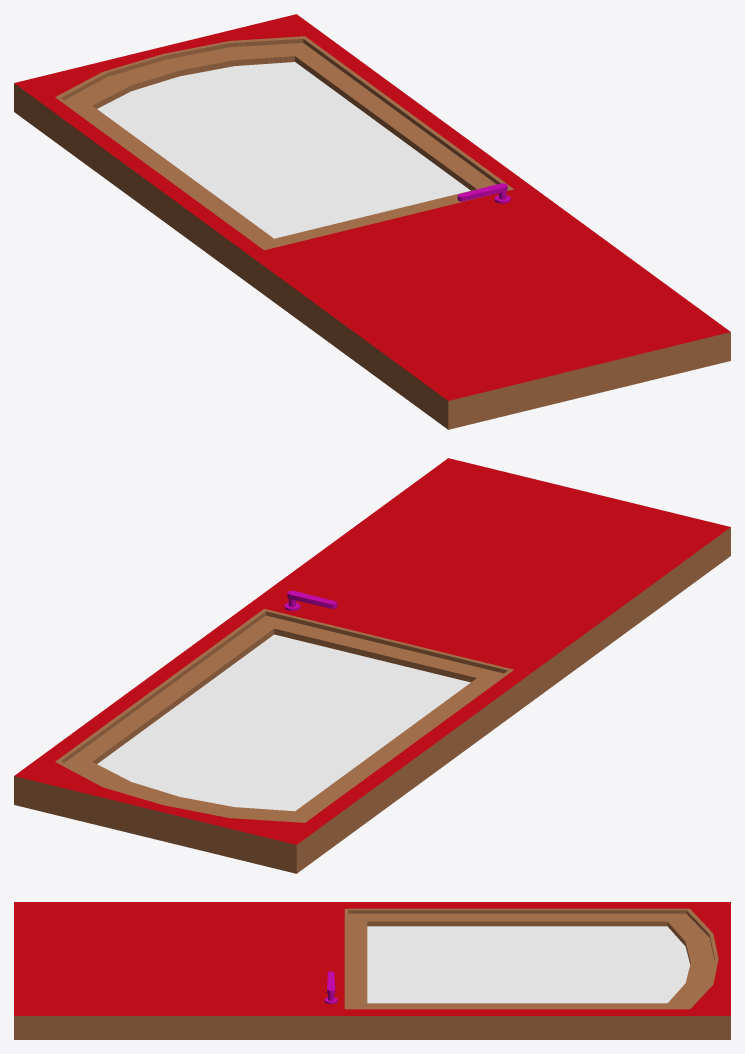
File: CableCar_01_Door.fbx
3 views of the same model, one above another, from view 1: azimuth 30°, elevation 25°; view 2: azimuth 150°, elevation 25°; view 3: azimuth 270°, elevation 25° (orthographic). The views are drawn at different scales.
Parts seen in each view (by area): view 1: CableCar_01_Door; view 2: CableCar_01_Door; view 3: CableCar_01_Door.
Part boxes in pixels (x1,y1,x2,y2): CableCar_01_Door: (14,14,730,429); CableCar_01_Door: (14,458,730,873); CableCar_01_Door: (14,902,730,1039).
Size of the model in its own units: 0.717 by 0.1416 by 1.91.
